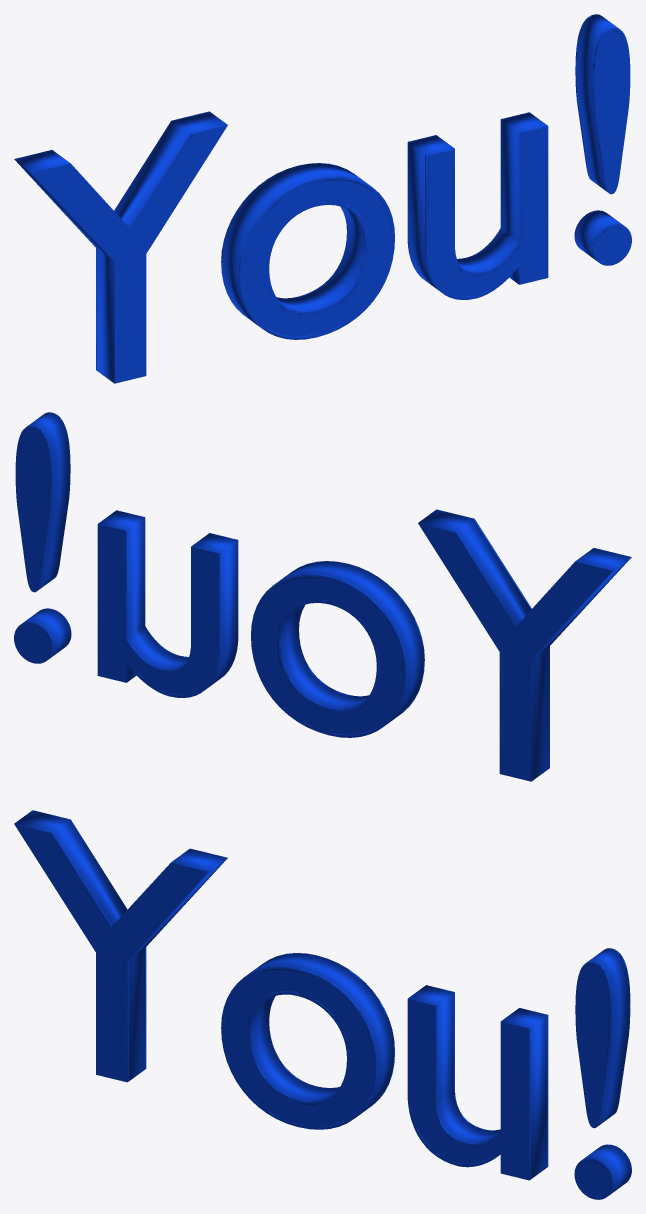
3 renders of one model, top to bottom at view 1: azimuth 30°, elevation 25°; view 2: azimuth 150°, elevation 25°; view 3: azimuth 330°, elevation 25°, orthographic.
Parts seen in each view (by area): view 1: Ash..; view 2: Ash..; view 3: Ash...
Part boxes in pixels (x1,y1,x2,y2): Ash..: [14, 14, 631, 383]; Ash..: [14, 412, 631, 781]; Ash..: [14, 810, 631, 1199].
Size of the model in its own units: 1.85 by 0.7 by 0.1.
